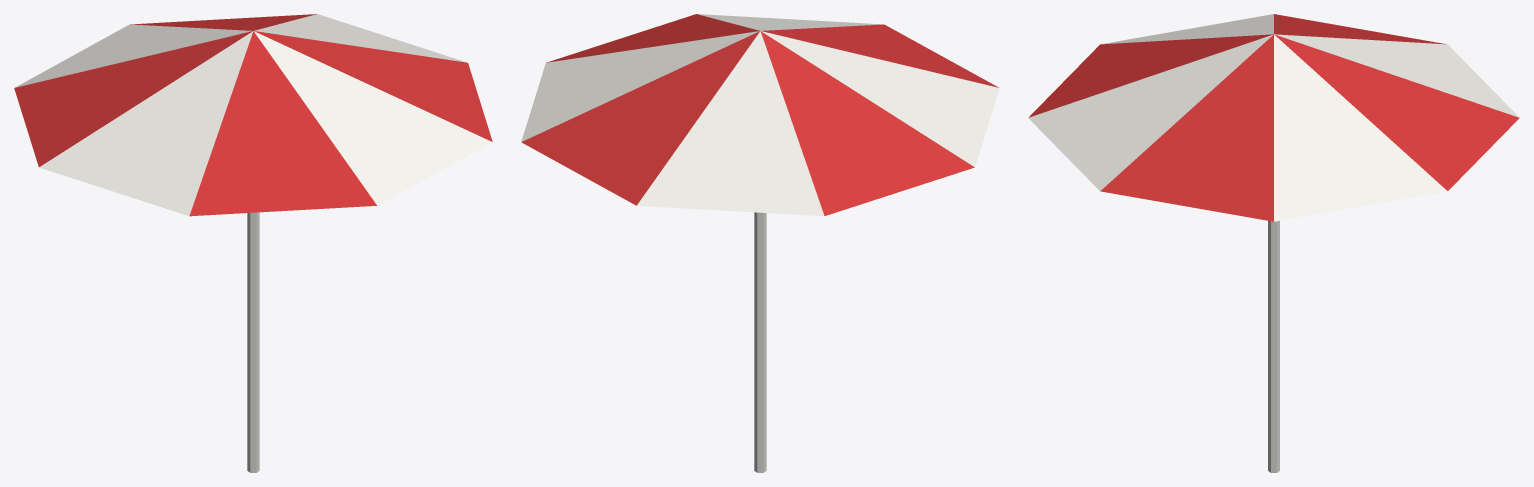
The model's file is umbrella.glb.
3 views of the same model, side by side, from view 1: azimuth 30°, elevation 25°; view 2: azimuth 150°, elevation 25°; view 3: azimuth 270°, elevation 25° (orthographic).
Parts seen in each view (by area): view 1: umbrella; view 2: umbrella; view 3: umbrella.
Boxes of the visible parts, box(x1,y1,x2,y2) form: umbrella: box(14, 14, 492, 472); umbrella: box(521, 14, 999, 472); umbrella: box(1028, 14, 1519, 472).
Bounding box in the file's own units: 2.4 × 2.35 × 2.4.
